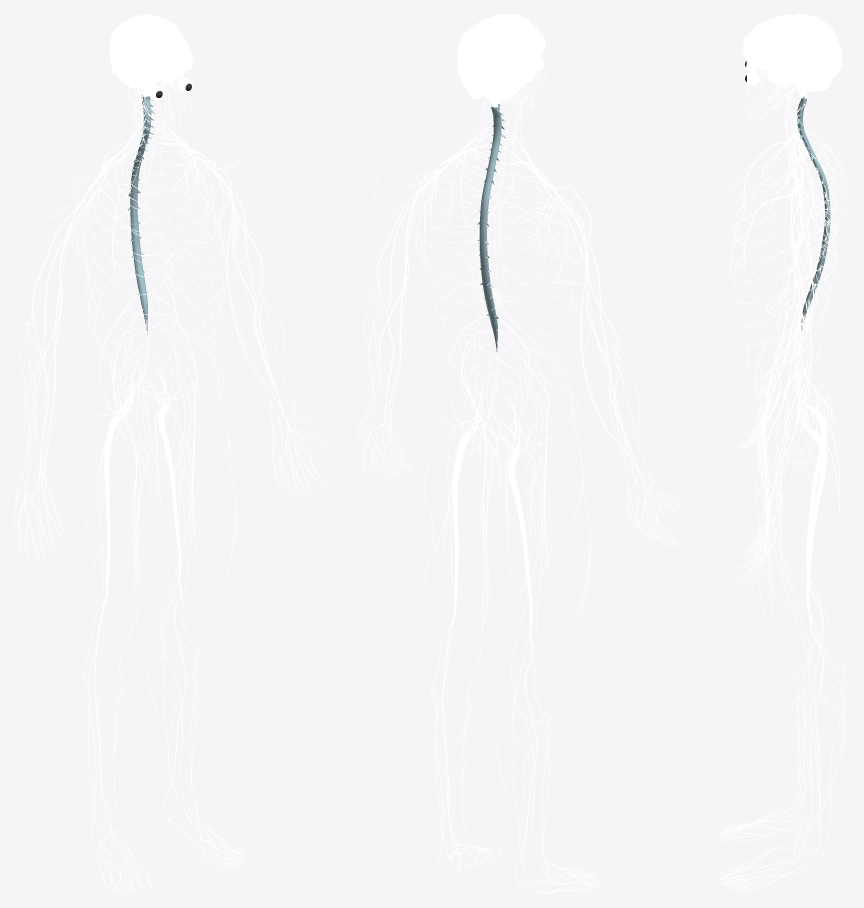
File: nervous.lod.glb
The picture shows the model from 3 angles, left to right: view 1: azimuth 30°, elevation 25°; view 2: azimuth 150°, elevation 25°; view 3: azimuth 270°, elevation 25°; orthographic projection. The views are drawn at different scales.
Visible parts, largest first — view 1: Spinal dura, Intercostal nerves.r, Intercostal nerves.l, Sciatic nerve.r, Sciatic nerve.l, Middle frontal gyrus.r; view 2: Spinal dura, Intercostal nerves.l, Intercostal nerves.r, Sciatic nerve.r, Sciatic nerve.l, Saphenous nerve.r; view 3: Intercostal nerves.l, Spinal dura, Intercostal nerves.r, Sciatic nerve.l, Sciatic nerve.r, Middle frontal gyrus.l, Saphenous nerve.l, Lateral femoral cutaneous nerve.l, Median nerve.l, Saphenous nerve.r, Middle temporal gyrus.l, Precentral gyrus.l (+18 smaller).
Part boxes in pixels (left/top/right/bottom): Spinal dura: left=128, top=95, right=154, bottom=334; Intercostal nerves.r: left=82, top=148, right=173, bottom=392; Intercostal nerves.l: left=141, top=143, right=227, bottom=389; Sciatic nerve.r: left=104, top=376, right=132, bottom=595; Sciatic nerve.l: left=146, top=369, right=181, bottom=577; Middle frontal gyrus.r: left=133, top=30, right=166, bottom=74; Spinal dura: left=477, top=104, right=506, bottom=352; Intercostal nerves.l: left=429, top=154, right=524, bottom=369; Intercostal nerves.r: left=491, top=163, right=581, bottom=373; Sciatic nerve.r: left=497, top=399, right=532, bottom=632; Sciatic nerve.l: left=452, top=393, right=481, bottom=613; Saphenous nerve.r: left=496, top=452, right=545, bottom=849; Intercostal nerves.l: left=730, top=153, right=837, bottom=382; Spinal dura: left=796, top=96, right=830, bottom=331; Intercostal nerves.r: left=730, top=140, right=837, bottom=371; Sciatic nerve.l: left=797, top=384, right=827, bottom=612; Sciatic nerve.r: left=797, top=370, right=827, bottom=577; Middle frontal gyrus.l: left=744, top=29, right=794, bottom=62; Saphenous nerve.l: left=762, top=453, right=845, bottom=827; Lateral femoral cutaneous nerve.l: left=755, top=340, right=818, bottom=617; Median nerve.l: left=769, top=198, right=802, bottom=508; Saphenous nerve.r: left=762, top=425, right=845, bottom=795; Middle temporal gyrus.l: left=773, top=60, right=827, bottom=82; Precentral gyrus.l: left=775, top=21, right=804, bottom=62.
Size of the model in its own units: 0.6674 by 1.69 by 0.2426.
